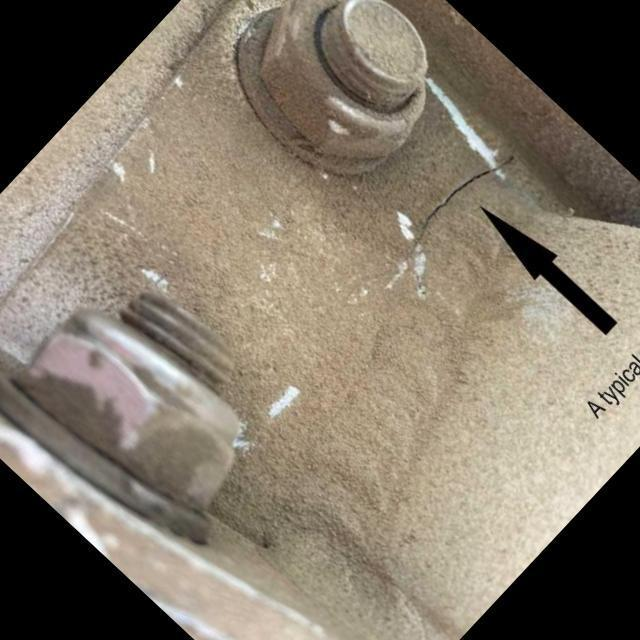defect: (390, 153, 520, 274)
